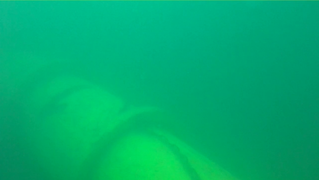1: (36, 83, 93, 120)
pipe: (1, 25, 238, 179)
